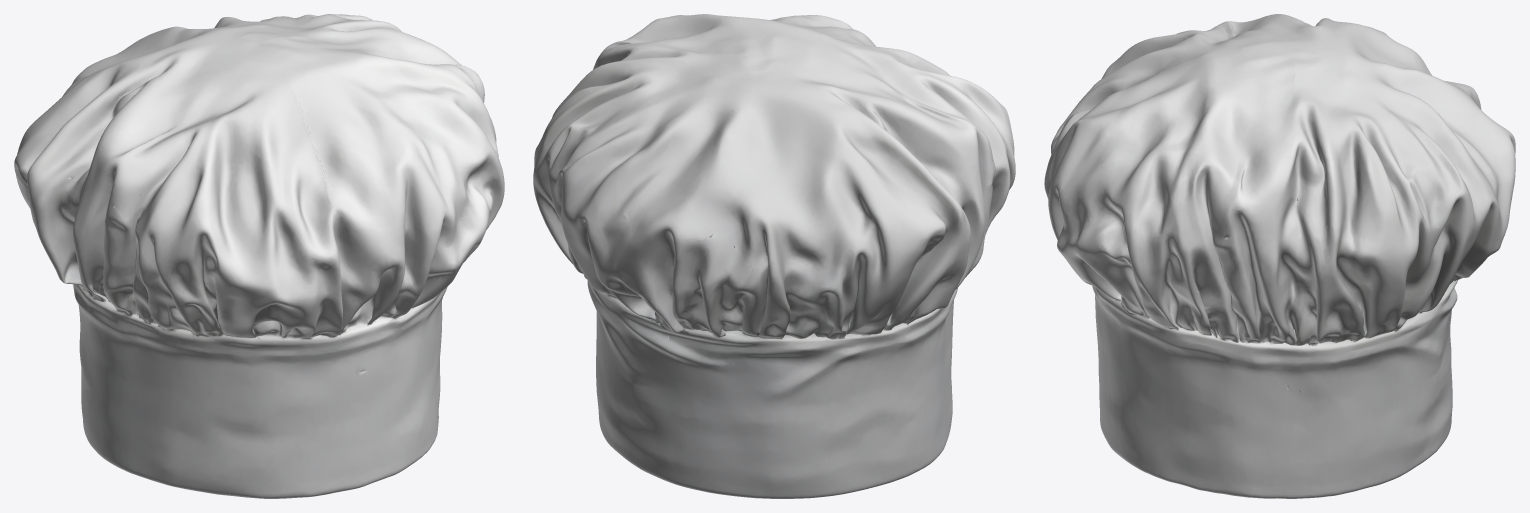
File: ChefHat.fbx
The picture shows the model from 3 angles, left to right: view 1: azimuth 30°, elevation 25°; view 2: azimuth 150°, elevation 25°; view 3: azimuth 270°, elevation 25°; orthographic projection.
Parts seen in each view (by area): view 1: tripo_node_60aaeaba; view 2: tripo_node_60aaeaba; view 3: tripo_node_60aaeaba.
Part boxes in pixels (x1,y1,x2,y2): tripo_node_60aaeaba: [14, 14, 504, 498]; tripo_node_60aaeaba: [533, 14, 1015, 498]; tripo_node_60aaeaba: [1044, 14, 1515, 498].
Size of the model in its own units: 97.93 by 97.93 by 85.89.
Materials: 1 (1 with a texture image).
